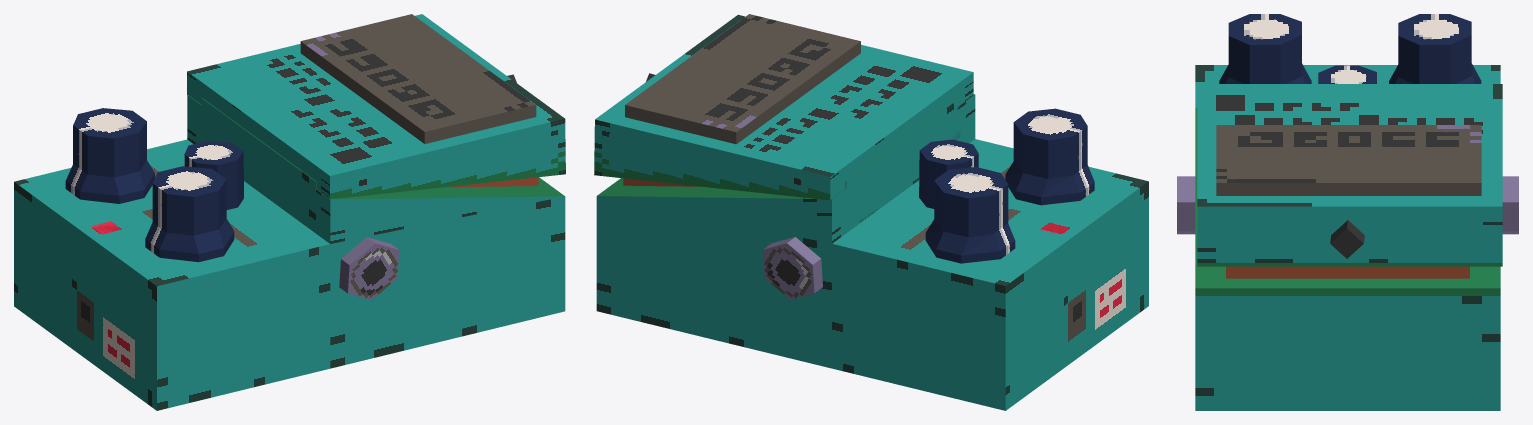
Rendered from Boss_TR2.gltf.
3 renders of one model, left to right at view 1: azimuth 30°, elevation 25°; view 2: azimuth 150°, elevation 25°; view 3: azimuth 270°, elevation 25°, orthographic. The views are drawn at different scales.
Size of the model in its own units: 4.32 by 1.97 by 2.8.
Materials: 1 (1 with a texture image).
